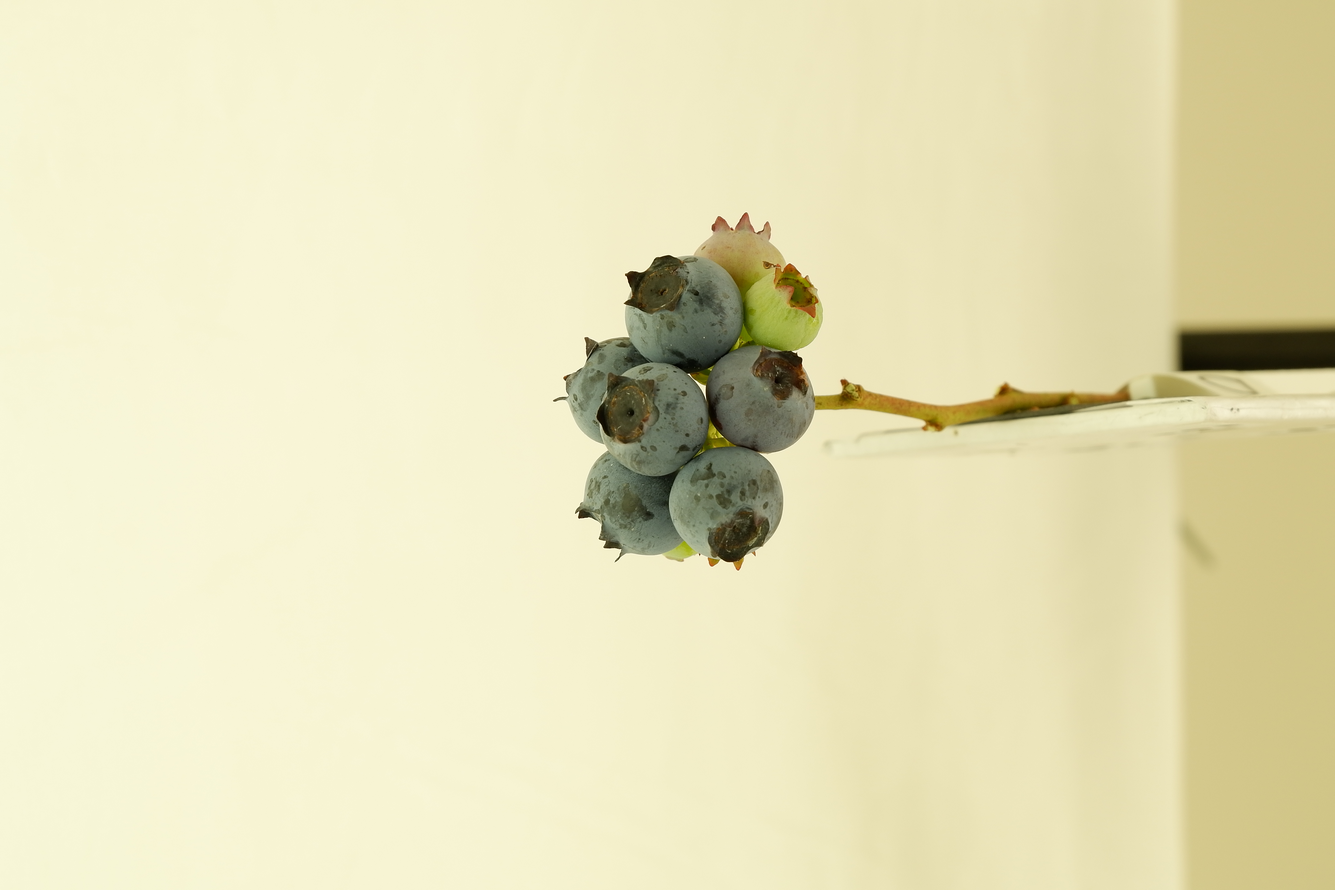Immature: (600, 365, 708, 472), (695, 214, 784, 300), (744, 267, 821, 350), (663, 541, 698, 563)
Mature: (626, 259, 744, 373), (669, 449, 781, 564), (707, 346, 811, 450), (552, 335, 650, 444), (580, 452, 679, 556)
